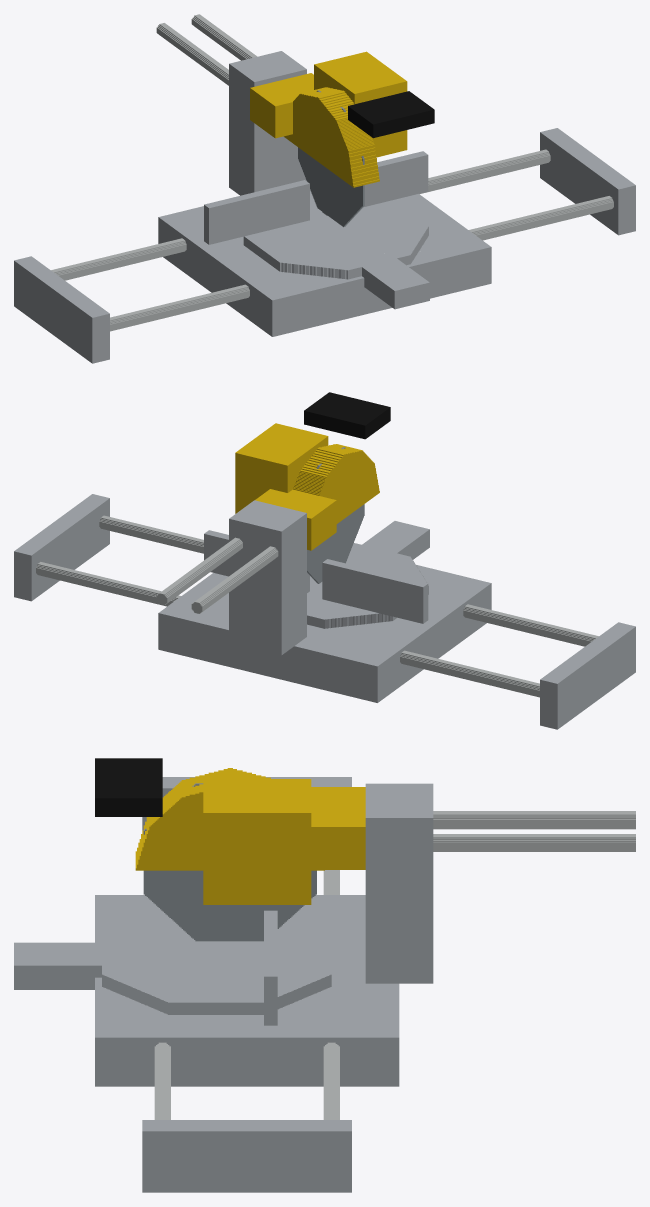
File: mitre_saw.glb
3 renders of one model, top to bottom at view 1: azimuth 30°, elevation 25°; view 2: azimuth 150°, elevation 25°; view 3: azimuth 270°, elevation 25°, orthographic. The views are drawn at different scales.
Parts seen in each view (by area): view 1: mitre_saw:compound; view 2: mitre_saw:compound; view 3: mitre_saw:compound.
Boxes of the visible parts, x1,y1,x2,y2 form: mitre_saw:compound: (14, 14, 635, 363); mitre_saw:compound: (14, 392, 635, 729); mitre_saw:compound: (14, 758, 635, 1192).
Bounding box in the file's own units: 1.24 × 0.41 × 0.92.
